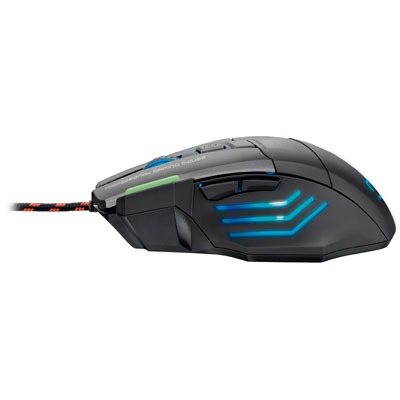mouse: (83, 131, 397, 275)
